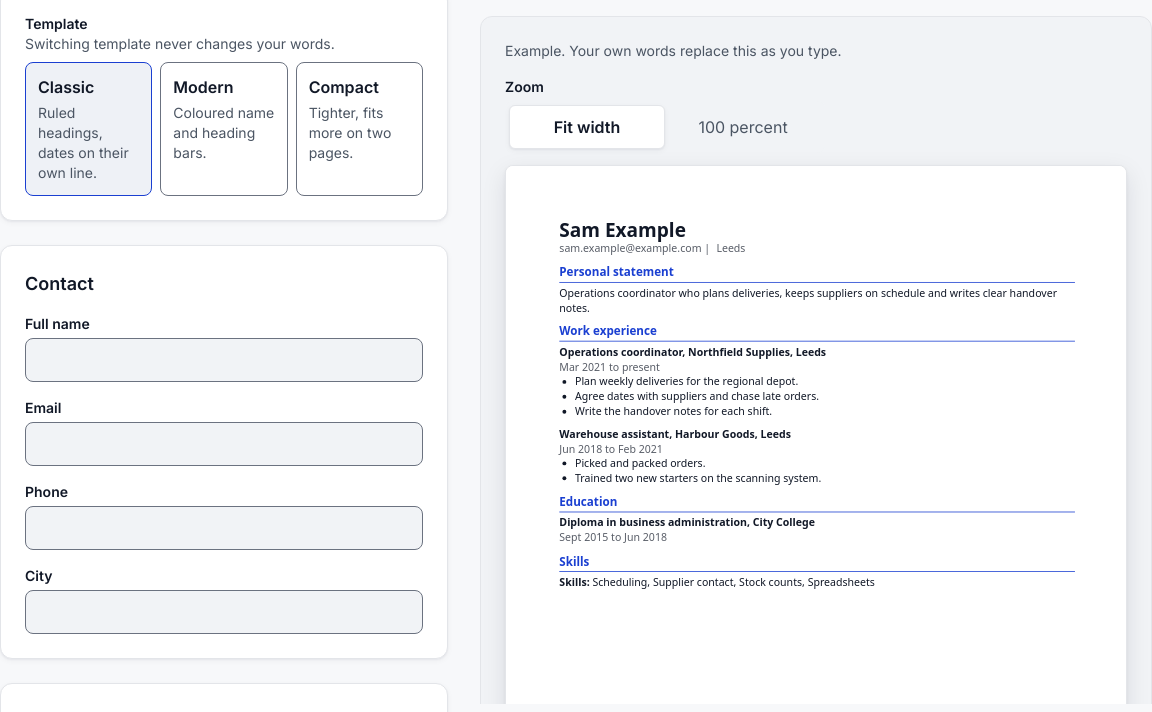
Test: autosave › flushes on pagehide and when the tab is hidden
(page scrolled)
In the field labelled "Full name": (224, 360) [25,338,423,382], type "Hidden"
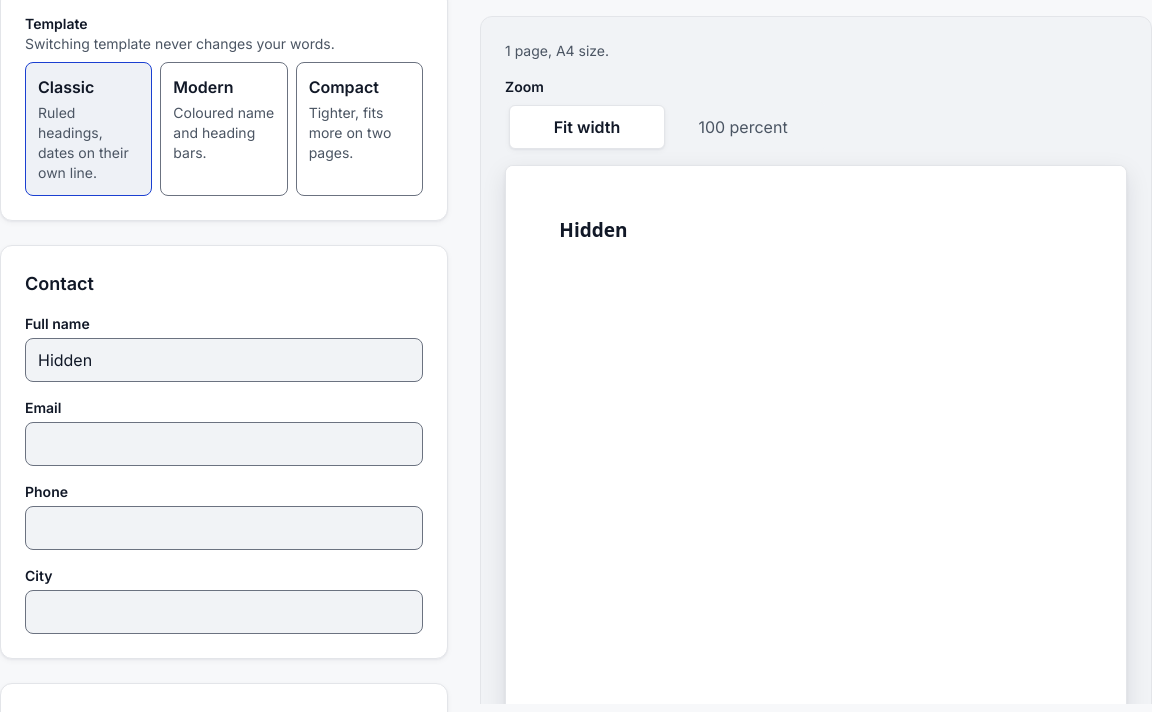
Now the heading "Hidden" is shown, box [559,217,628,243]
Replace the text in the field labelled "Full name" with "Hidden twice": (224, 360) [25,338,423,382]
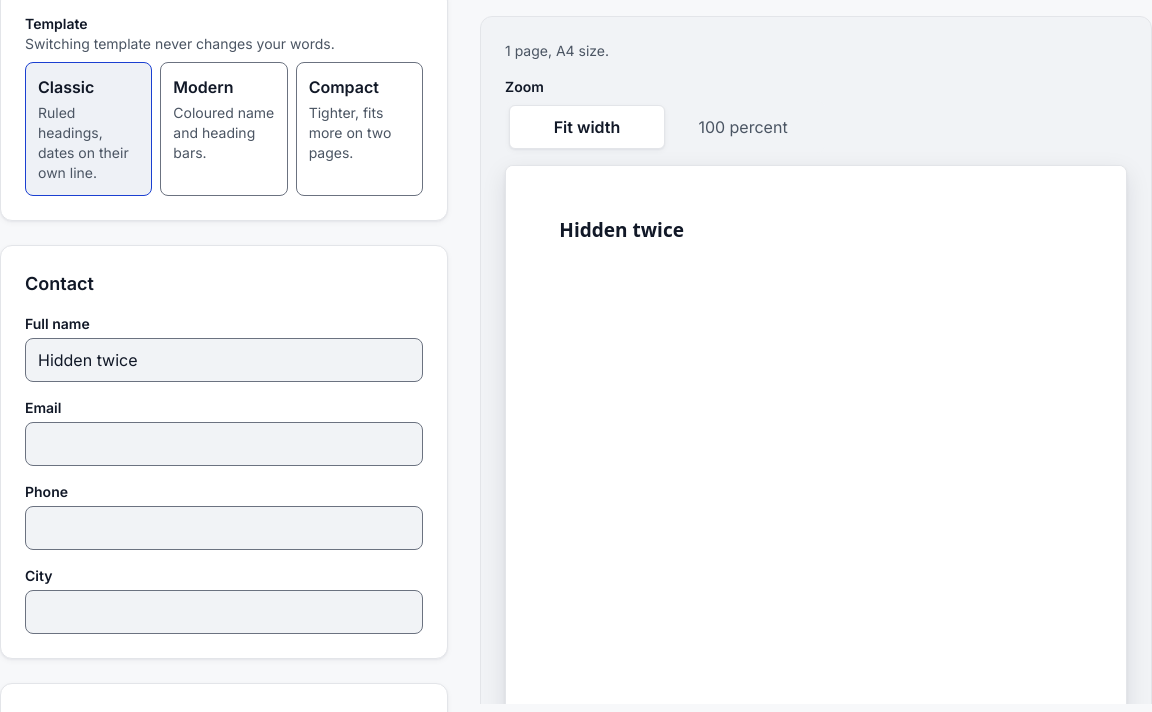
Now the heading "Hidden twice" is shown, box [559,217,684,243]
